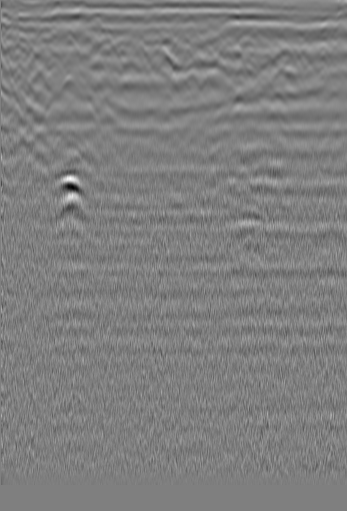가스: (51, 169, 84, 201)
상수: (311, 31, 331, 51)
오수: (17, 30, 37, 50)
우수: (158, 20, 178, 40)
